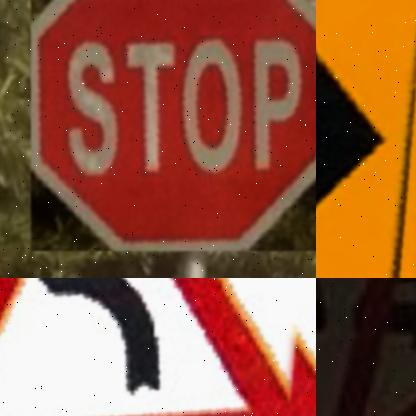Left bend: (0, 278, 316, 416)
No Overtaking: (316, 278, 416, 416)
Stop 2: (31, 0, 316, 251)
